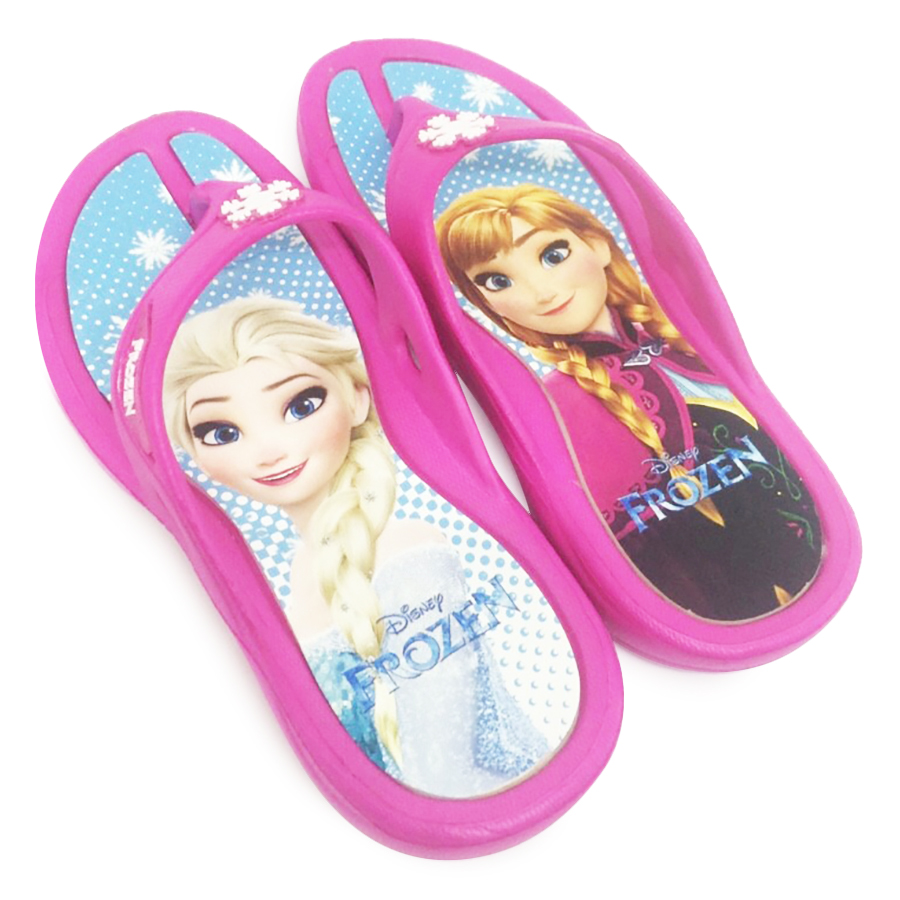Disney: (370, 589, 456, 640), (631, 445, 710, 481)
